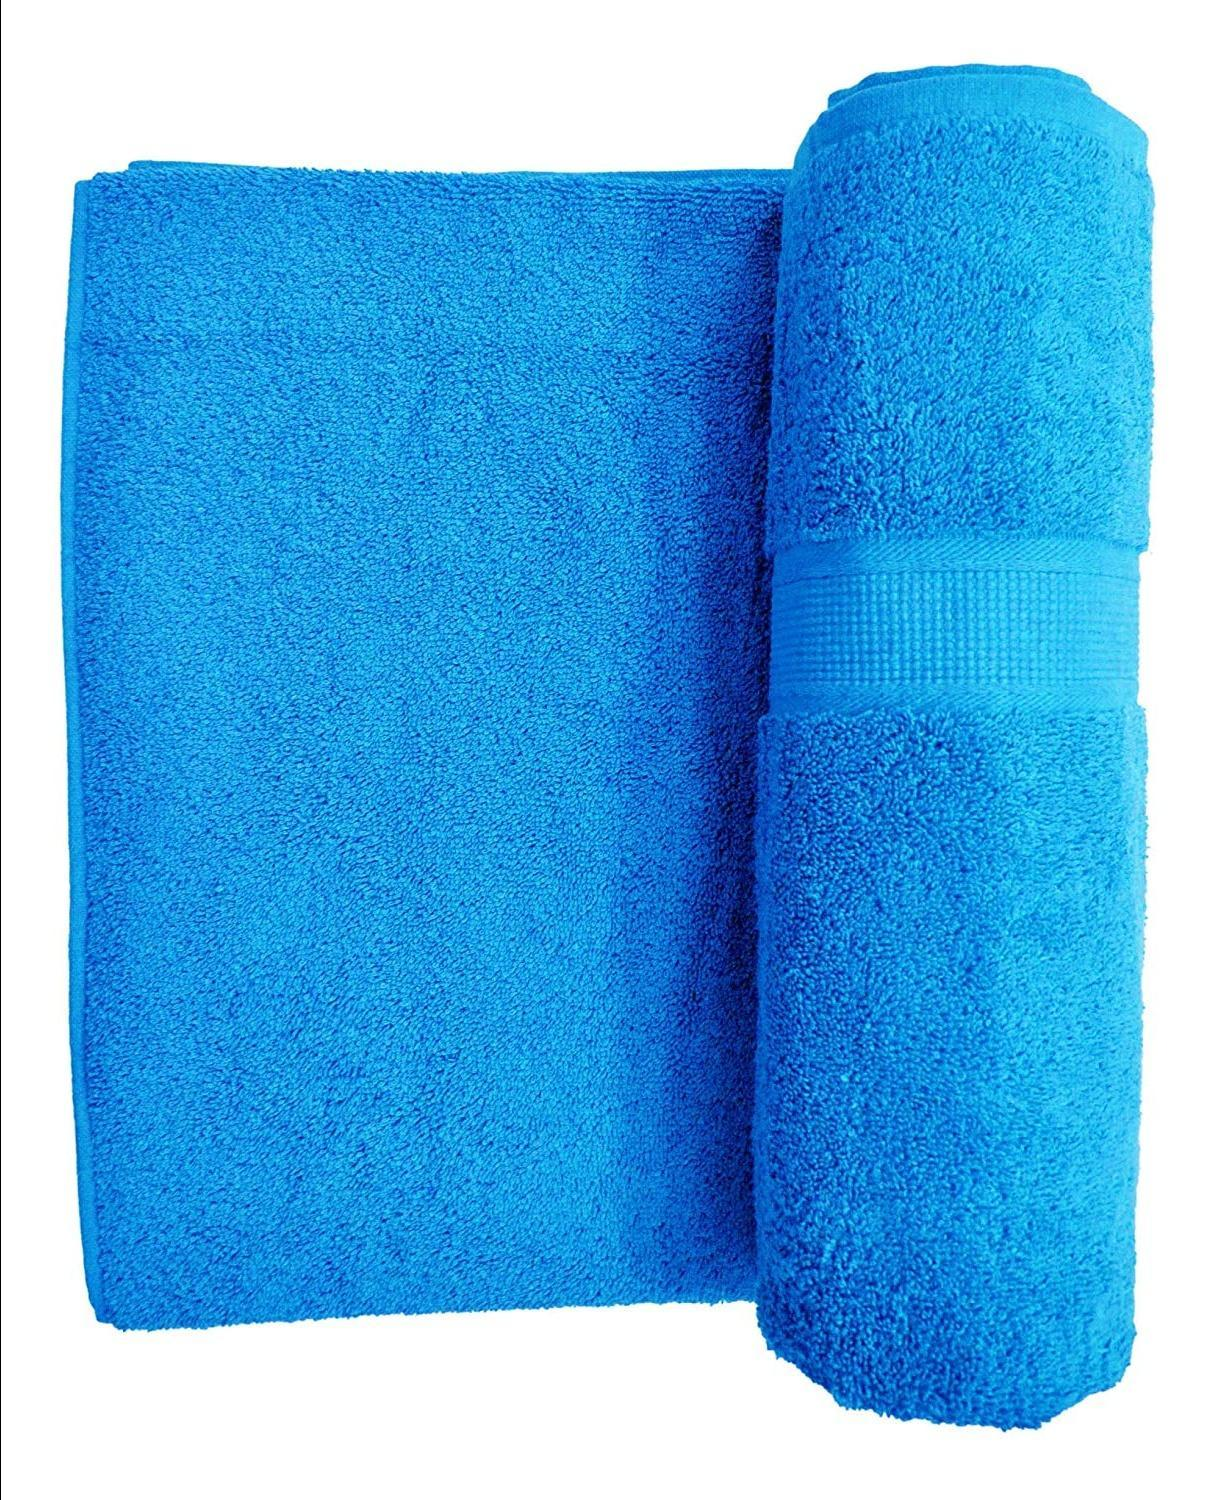towel: (10, 26, 1210, 1446)
